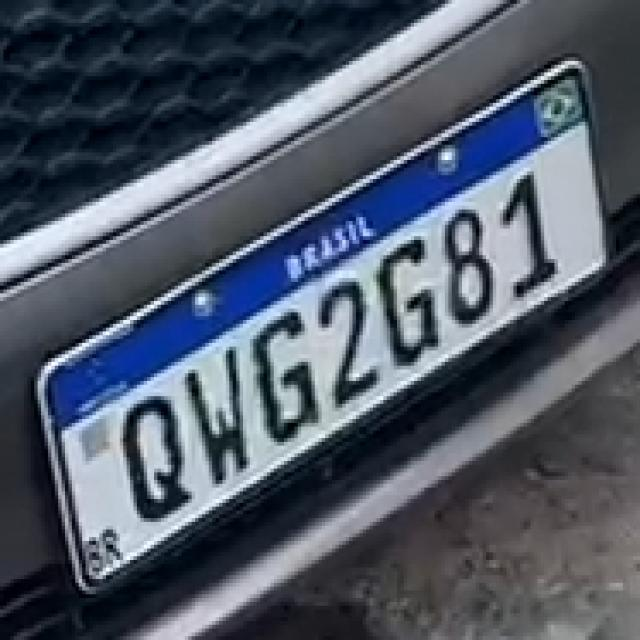Placa_mercosul_carro: (43, 64, 606, 583)
